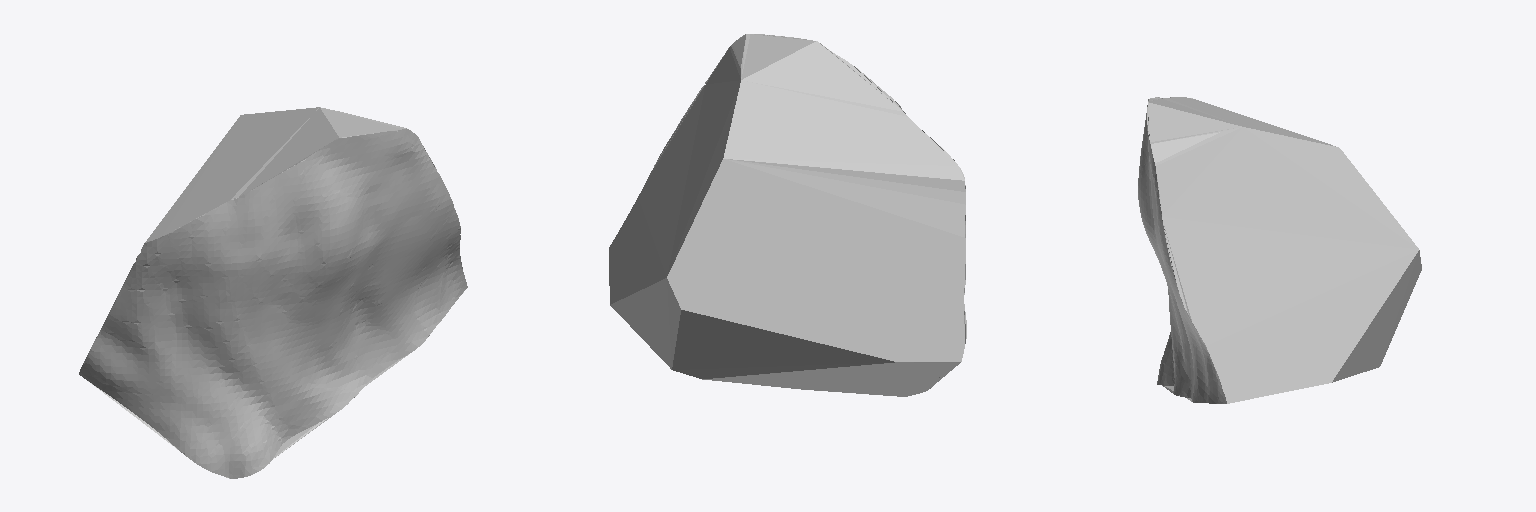
Rendered from low_cell_056.obj.
3 views of the same model, side by side, from view 1: azimuth 30°, elevation 25°; view 2: azimuth 150°, elevation 25°; view 3: azimuth 270°, elevation 25° (orthographic).
Parts seen in each view (by area): view 1: low_cell.056_low_cell.055; view 2: low_cell.056_low_cell.055; view 3: low_cell.056_low_cell.055.
Part boxes in pixels (bbox=[...]): low_cell.056_low_cell.055: bbox=[79, 107, 467, 478]; low_cell.056_low_cell.055: bbox=[609, 34, 966, 396]; low_cell.056_low_cell.055: bbox=[1138, 97, 1421, 403].
Size of the model in its own units: 1.12 by 0.9344 by 0.7412.